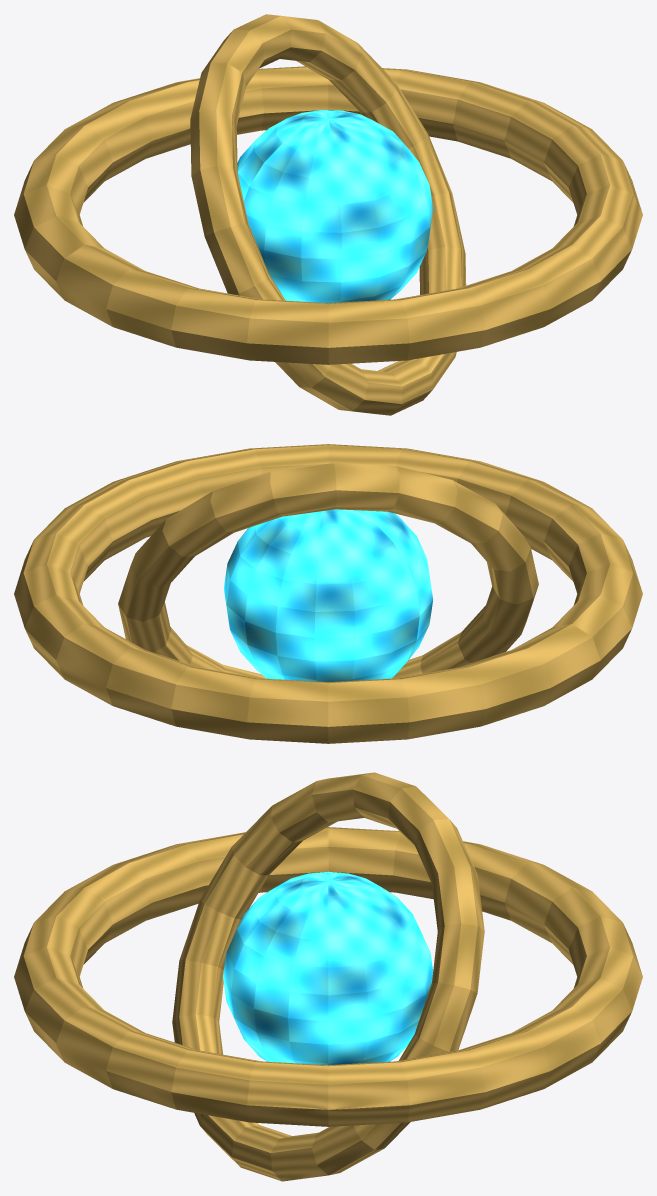
File: grapple_anchor_ring.glb
3 renders of one model, top to bottom at view 1: azimuth 30°, elevation 25°; view 2: azimuth 150°, elevation 25°; view 3: azimuth 270°, elevation 25°, orthographic.
Parts seen in each view (by area): view 1: CelestialGrappleAnchor; view 2: CelestialGrappleAnchor; view 3: CelestialGrappleAnchor.
Boxes of the visible parts, <box> form: CelestialGrappleAnchor: <box>14,14,642,415</box>; CelestialGrappleAnchor: <box>14,444,642,743</box>; CelestialGrappleAnchor: <box>14,772,642,1181</box>.
Bounding box in the file's own units: 2.68 × 1.58 × 2.68.
Materials: 2 (2 with a texture image).
